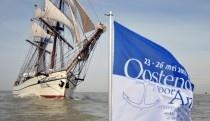fanchuan: (9, 1, 104, 99)
